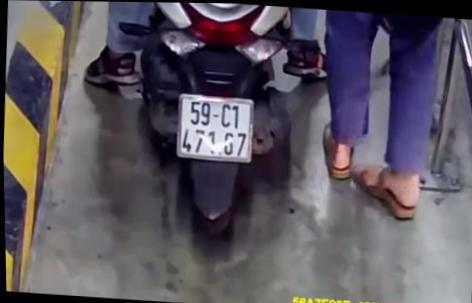LP: (170, 89, 257, 164)
